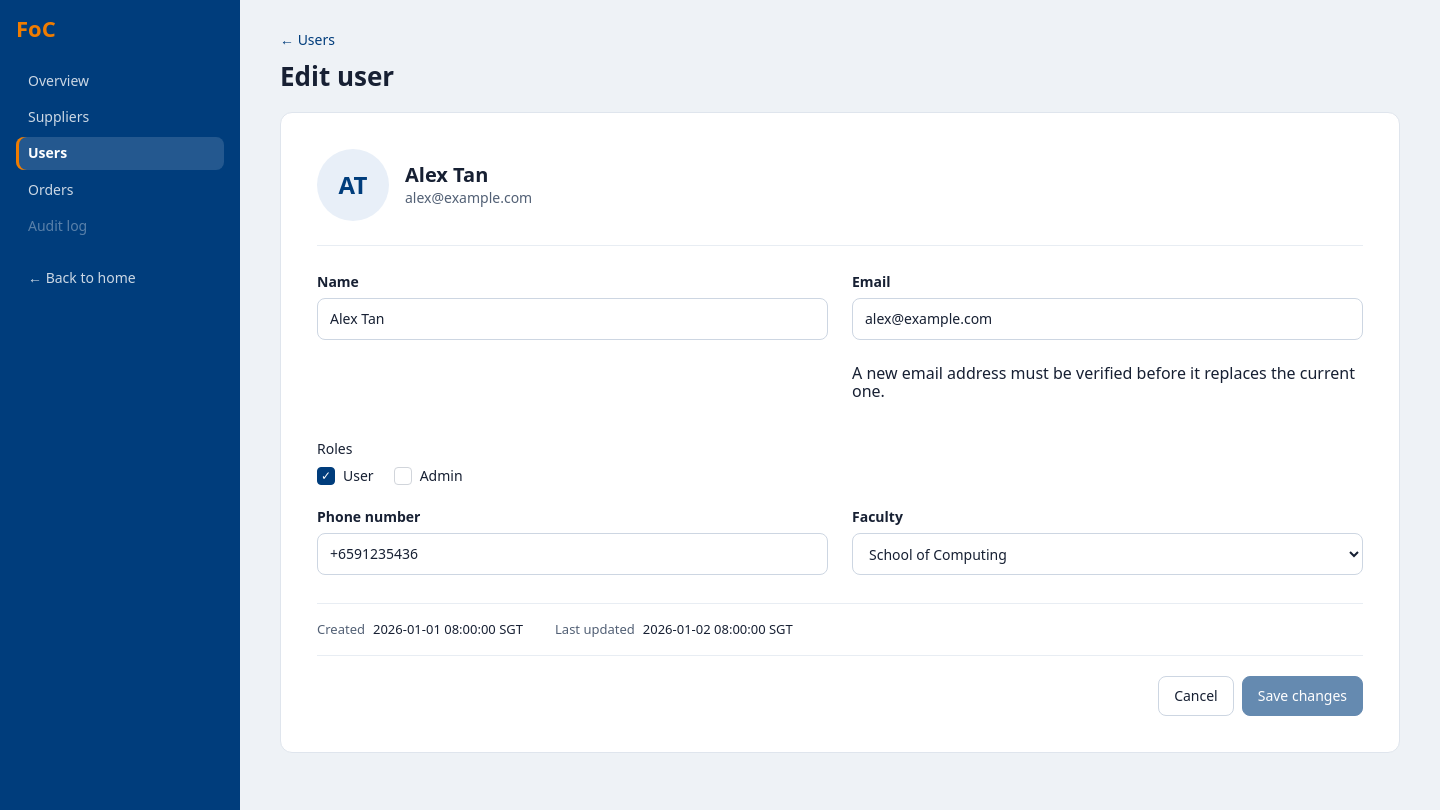
Test: requires at least one role before saving
This screenshot has width=1440, height=810.
Replace the text in the field labelled "Name" with "New name" at (572, 319), box x1=317 y1=298 x2=828 y2=340
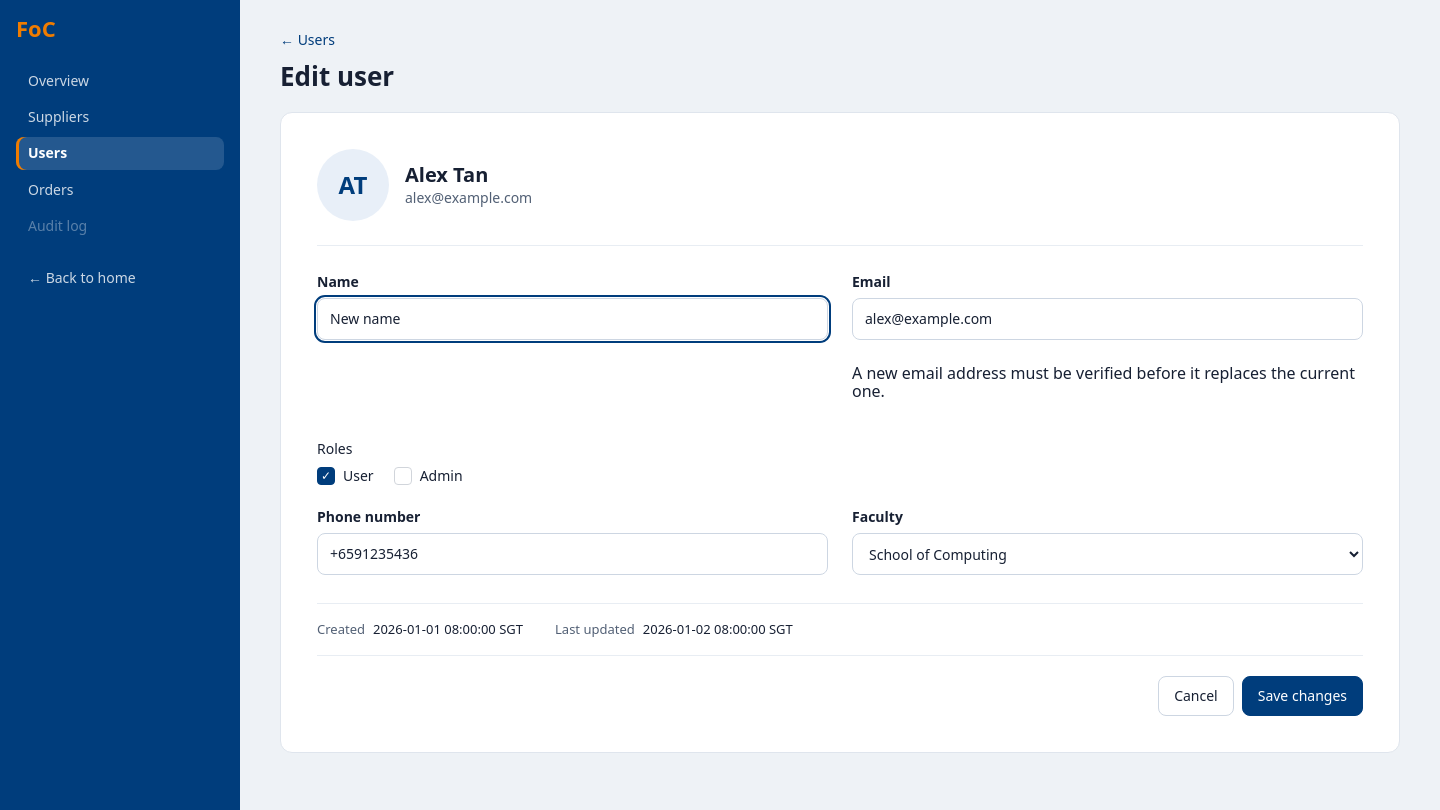
Click the checkbox named "User" at (326, 476), box x1=317 y1=467 x2=335 y2=485
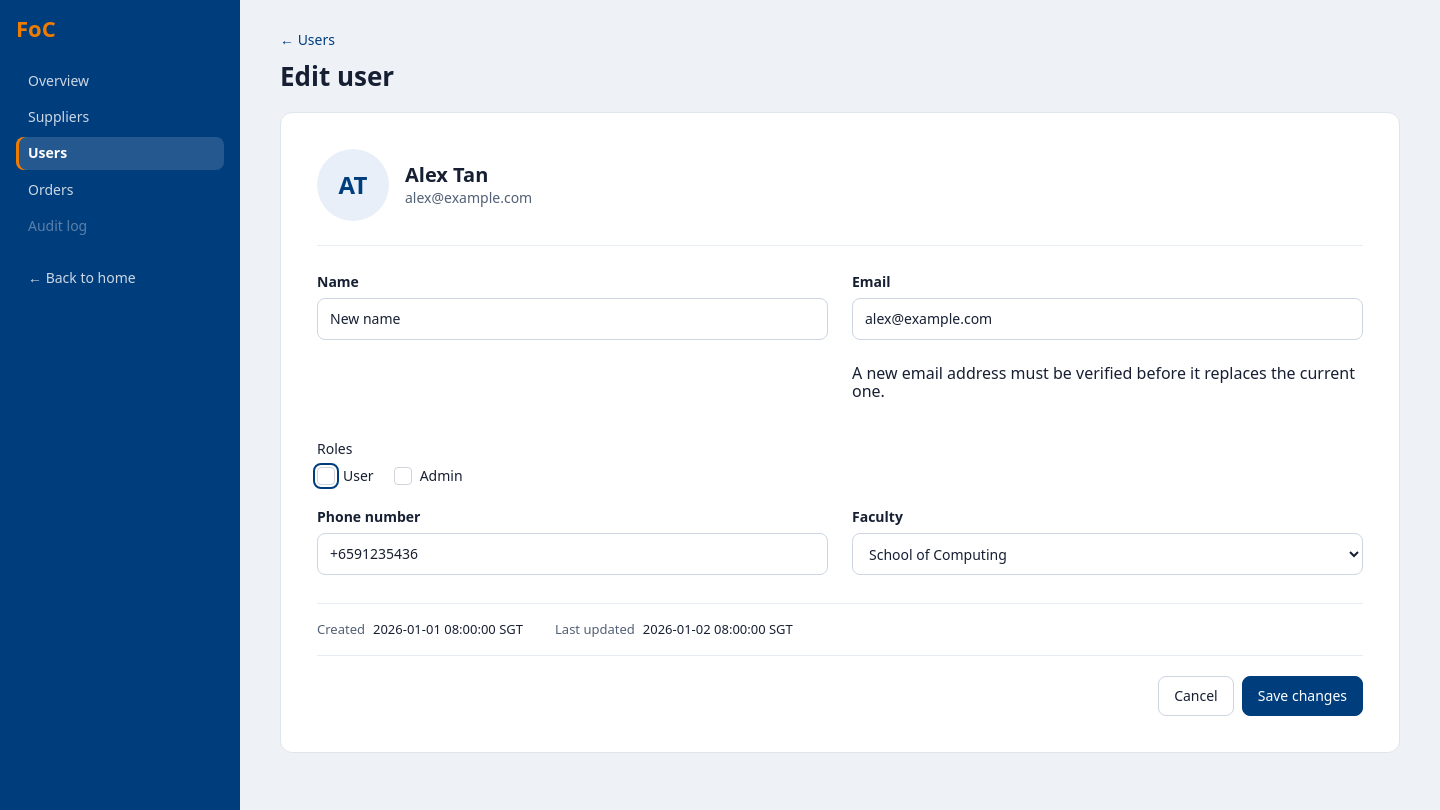
Click the button "Save changes" at (1302, 696), box x1=1242 y1=676 x2=1363 y2=716
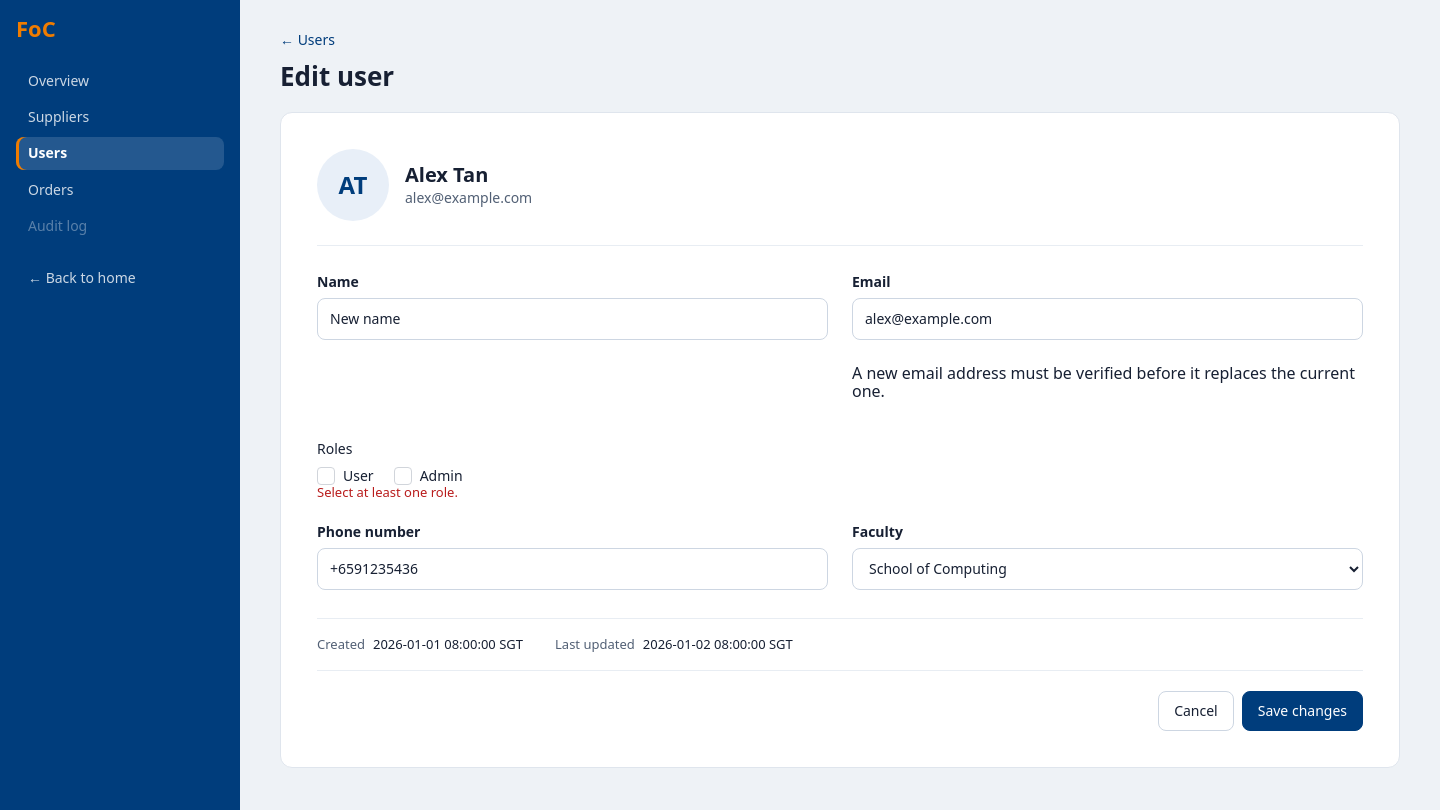
Result: the text "Select at least one role." is shown at x1=317 y1=483 x2=458 y2=501
